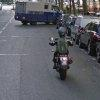Motorcycle: (44, 30, 81, 84)
